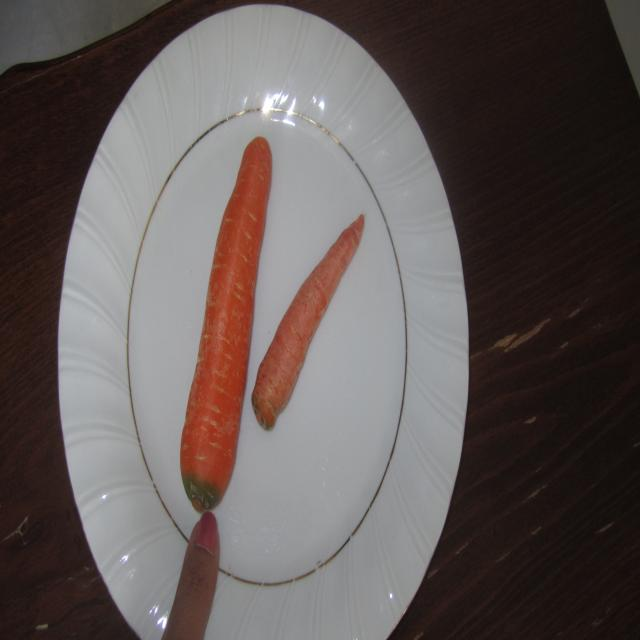carrot: (179, 132, 273, 512)
